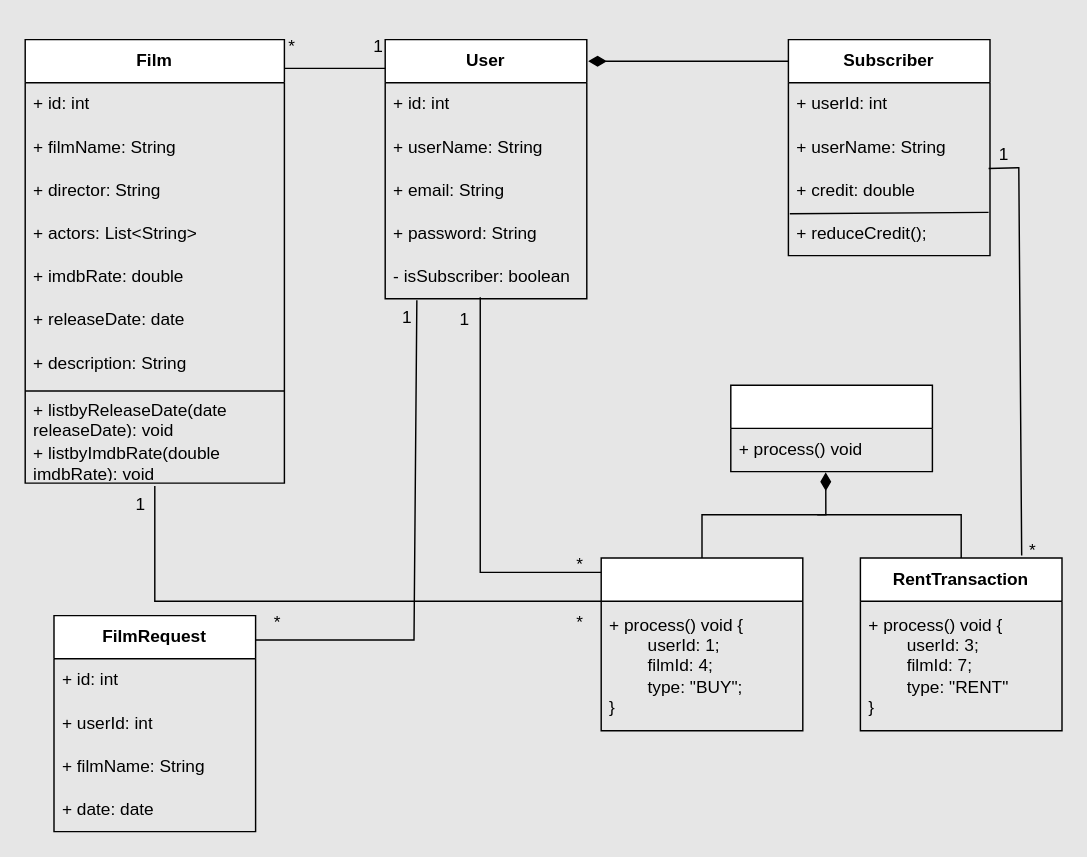
This 1087x857 diagram has some shape labels left out. Each missing label, with the box of its shape:
BuyTransaction: (600, 557, 803, 731)
FilmTransaction (Interface): (729, 384, 932, 472)
